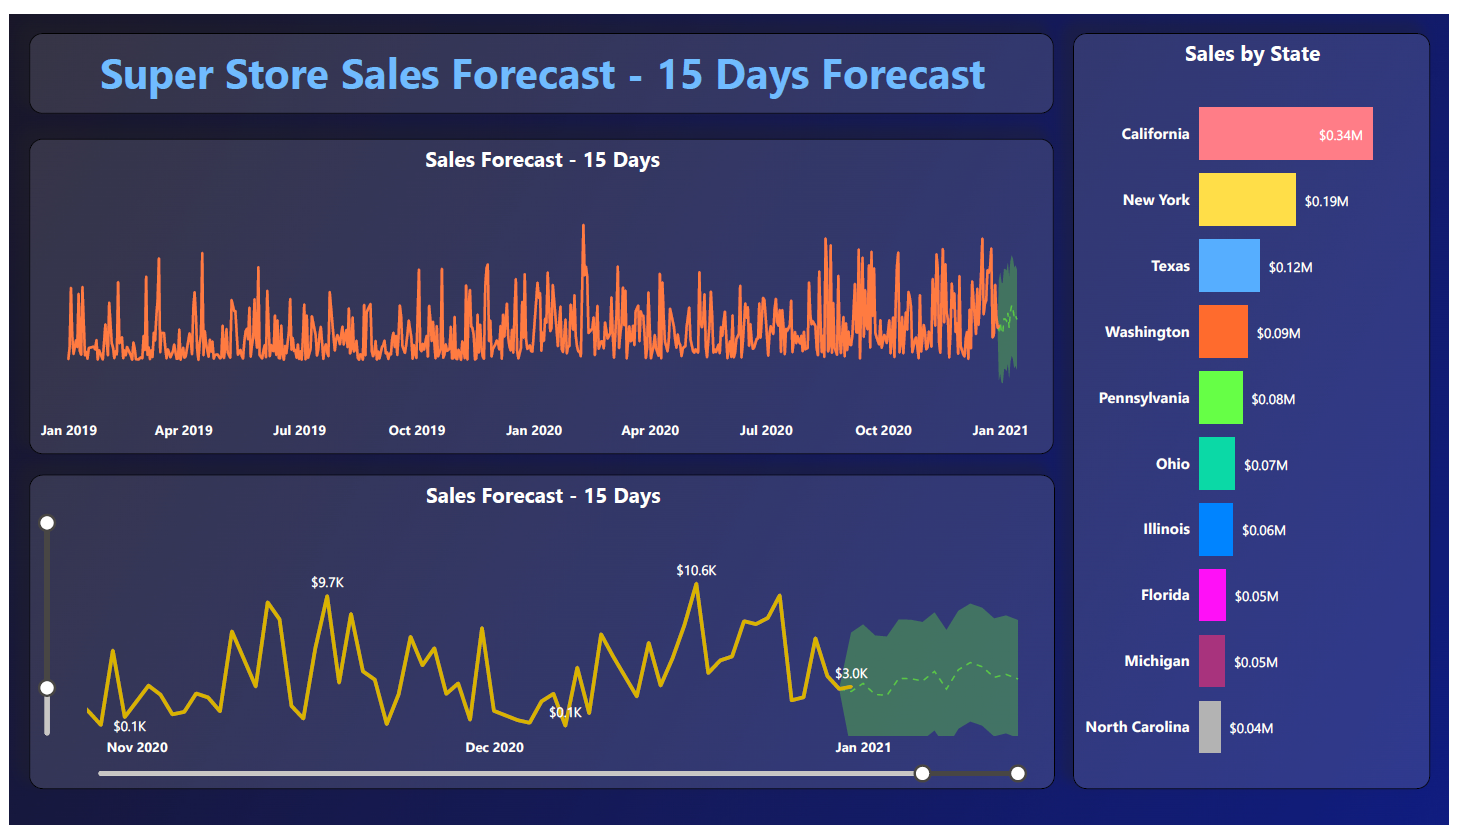

This screenshot's page, from the dashboard's own definition file:
{"tool":"powerbi","page":{"name":"Page 2","canvas":[1280,720],"ordinal":1},"visuals":[{"type":"lineChart","title":"Sales Forecast - 15 Days","fields":{"Y":["Sum(Salesforecast.Total Sales)"],"Category":["Salesforecast.Order Date.Variation.Date Hierarchy.Year","Salesforecast.Order Date.Variation.Date Hierarchy.Quarter","Salesforecast.Order Date.Variation.Date Hierarchy.Month","Salesforecast.Order Date.Variation.Date Hierarchy.Day"]},"box":[16.9,109.7,911.8,281],"z":0},{"type":"lineChart","title":"Sales Forecast - 15 Days","fields":{"Y":["Sum(Salesforecast.Total Sales)"],"Category":["Salesforecast.Order Date.Variation.Date Hierarchy.Year","Salesforecast.Order Date.Variation.Date Hierarchy.Quarter","Salesforecast.Order Date.Variation.Date Hierarchy.Month","Salesforecast.Order Date.Variation.Date Hierarchy.Day"]},"box":[16.9,408.8,913,279.8],"z":1000},{"type":"clusteredBarChart","title":"Sales by State","fields":{"Y":["Sum(SuperStore_Sales_Dataset.Sales)"],"Category":["SuperStore_Sales_Dataset.State"]},"box":[945.5,15.7,318.4,673],"z":2000},{"type":"textbox","box":[16.9,15.7,911.8,72.4],"z":3000}]}

Visuals, with their boxes in screenshot pixels (x1, y1, x2, y2), scaled from the page's 1280x720 canvas onto the 1460x833 screenshot:
"Sales Forecast - 15 Days" lineChart: crop(19, 127, 1059, 452)
"Sales Forecast - 15 Days" lineChart: crop(19, 473, 1061, 797)
"Sales by State" clusteredBarChart: crop(1078, 18, 1442, 797)
textbox: crop(19, 18, 1059, 102)
